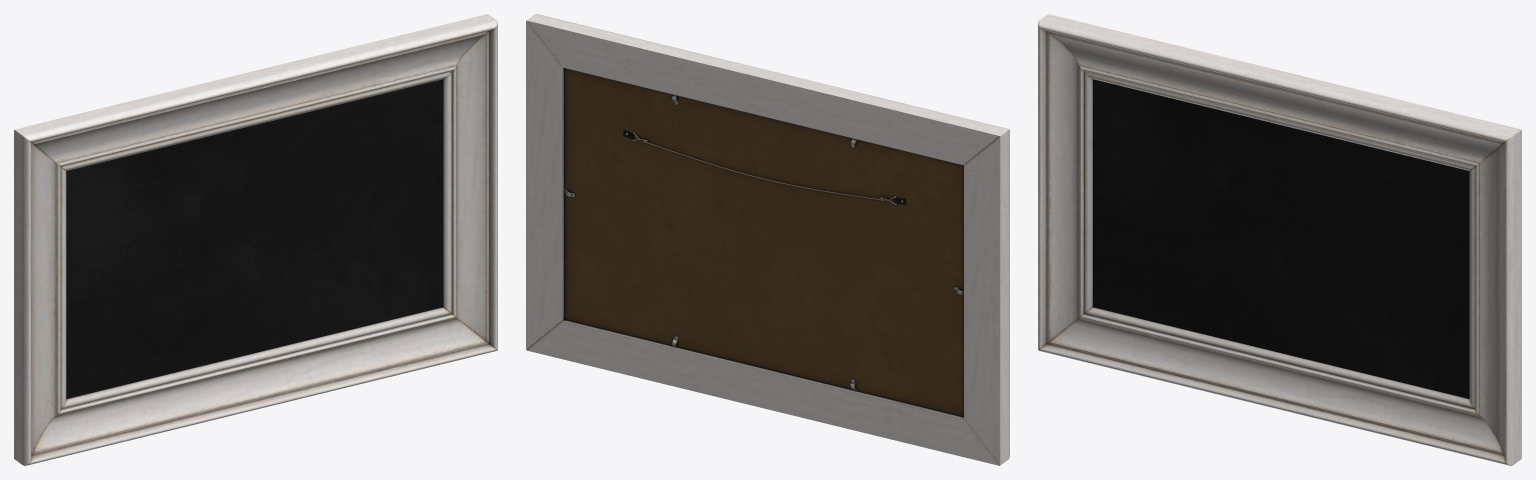
Rendered from hanging_picture_frame_02.glb.
3 views of the same model, side by side, from view 1: azimuth 30°, elevation 25°; view 2: azimuth 150°, elevation 25°; view 3: azimuth 330°, elevation 25° (orthographic).
Parts seen in each view (by area): view 1: hanging_picture_frame_02; view 2: hanging_picture_frame_02; view 3: hanging_picture_frame_02.
Boxes of the visible parts, bbox=[...] form: hanging_picture_frame_02: bbox=[14, 14, 497, 465]; hanging_picture_frame_02: bbox=[526, 14, 1009, 465]; hanging_picture_frame_02: bbox=[1038, 14, 1521, 465].
Size of the model in its own units: 0.7518 by 0.5 by 0.0331.
Materials: 3 (3 with a texture image).
